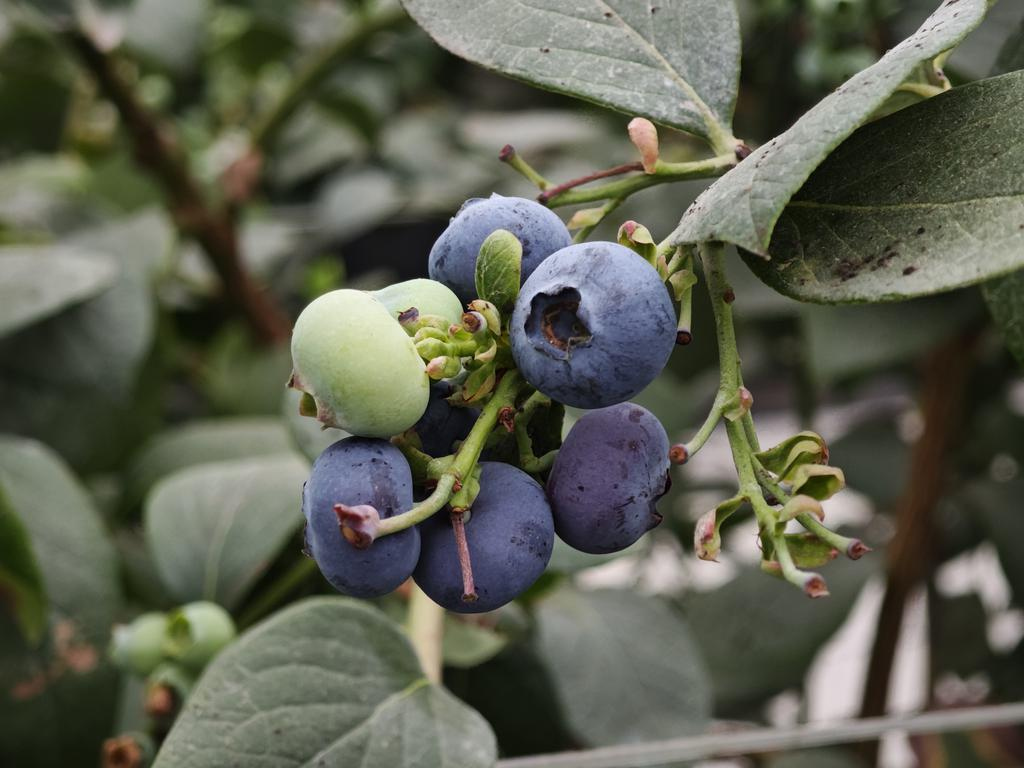RipeBlueBerry: (506, 240, 679, 411), (417, 460, 558, 614), (300, 435, 421, 598), (547, 403, 675, 557)
UnripeBlueBerry: (289, 285, 431, 438)
